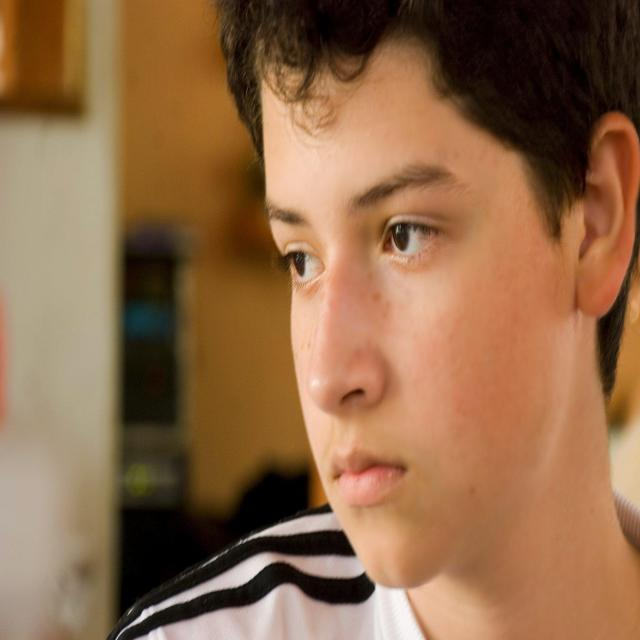no-glass: (285, 213, 446, 304)
